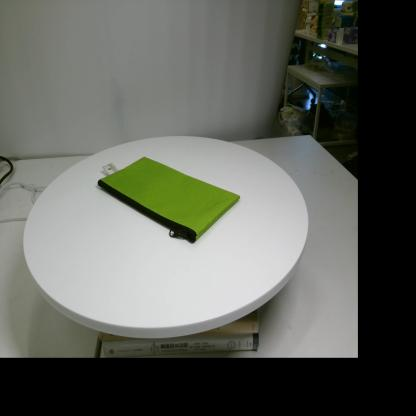Stationery: (98, 156, 240, 243)
